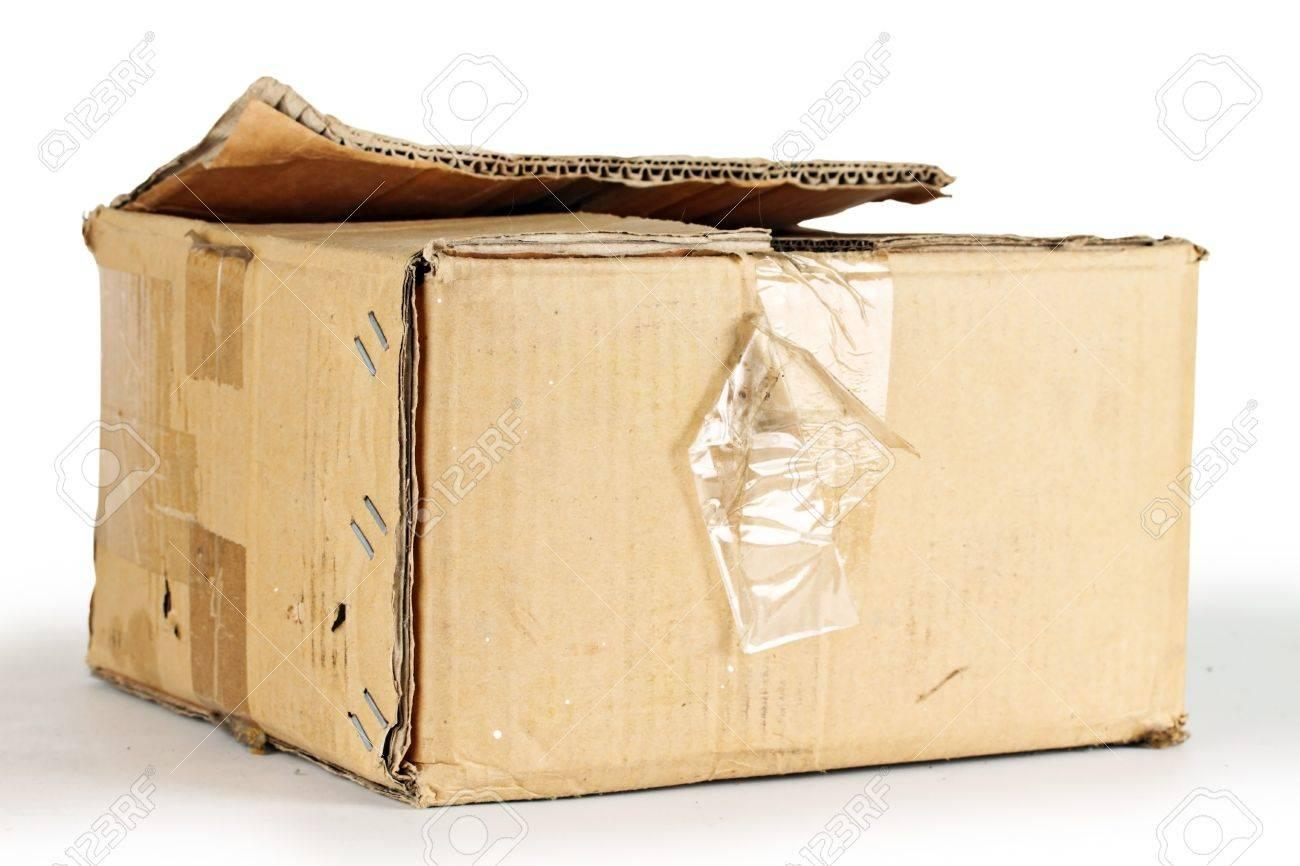plastic: (56, 70, 1213, 840)
